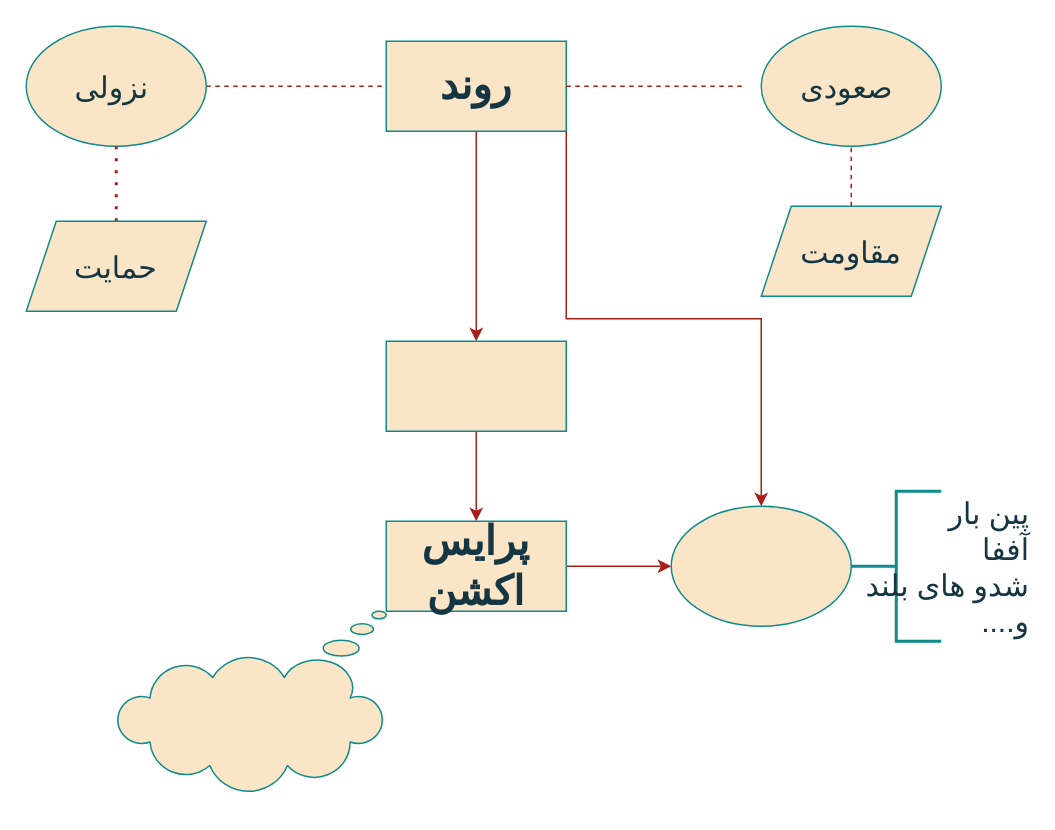
Image size: 1055x830. Some labels were removed from this diagram. The centre of each missing label's shape, as x and y in pixels:
حجم: (x=475, y=385)
شکست یا برگشت: (x=250, y=700)
کندل استیک ها: (x=760, y=565)
